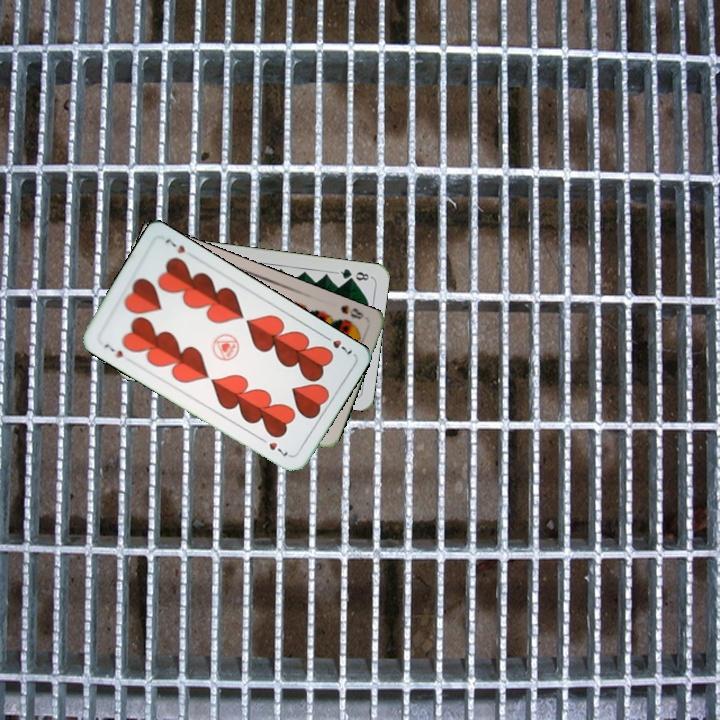G8: (333, 264, 373, 283)
H7: (319, 331, 355, 357), (100, 340, 126, 363)
S8: (336, 301, 366, 322)
